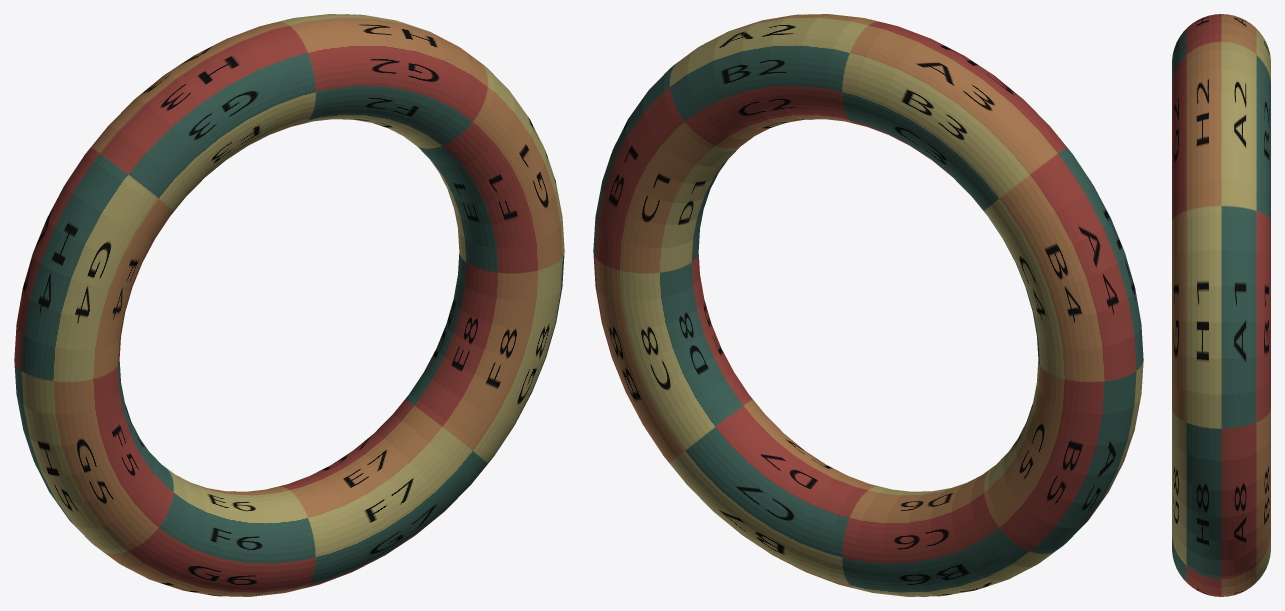
Rendered from texture_torus_R25_r13.glb.
3 views of the same model, side by side, from view 1: azimuth 30°, elevation 25°; view 2: azimuth 150°, elevation 25°; view 3: azimuth 270°, elevation 25° (orthographic). The views are drawn at different scales.
Visible parts, largest first — view 1: world; view 2: world; view 3: world.
Boxes of the visible parts, x1,y1,x2,y2 form: world: (14,14,564,596); world: (593,14,1143,596); world: (1172,14,1270,596).
Size of the model in its own units: 32.13 by 32.07 by 5.46.
Materials: 1 (1 with a texture image).
